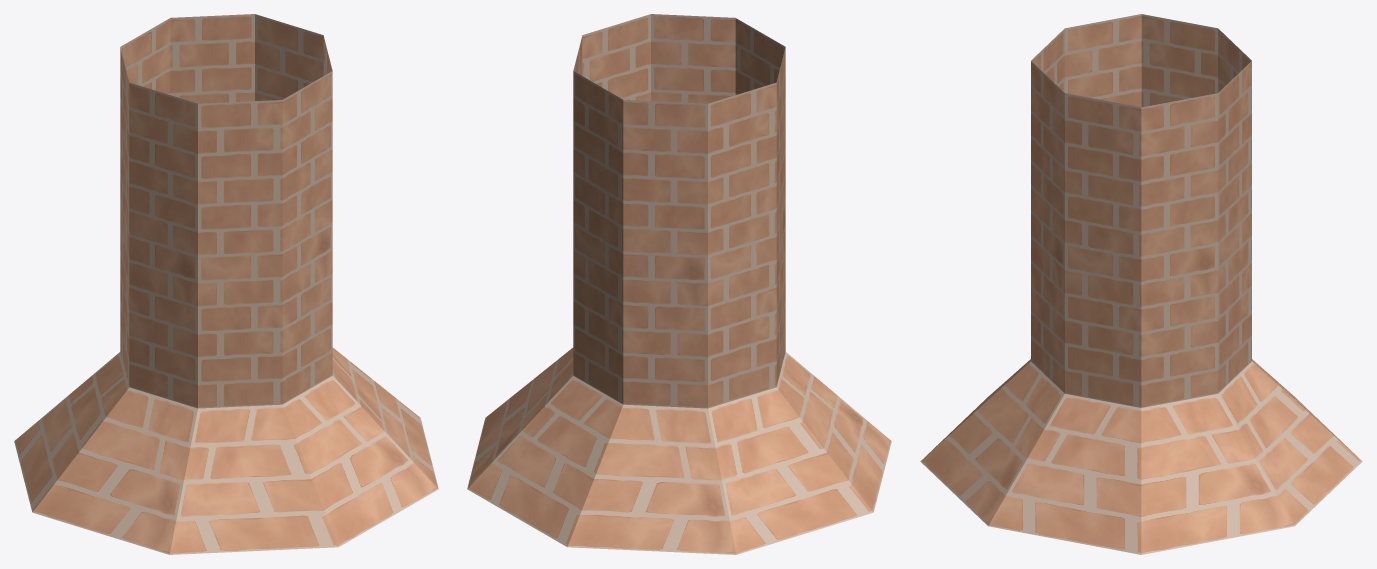
Rendered from Bot_Temp_Pillar.fbx.
3 views of the same model, side by side, from view 1: azimuth 30°, elevation 25°; view 2: azimuth 150°, elevation 25°; view 3: azimuth 270°, elevation 25° (orthographic).
Parts seen in each view (by area): view 1: Bot_Temp_Pillar; view 2: Bot_Temp_Pillar; view 3: Bot_Temp_Pillar.
Part boxes in pixels (x1,y1,x2,y2): Bot_Temp_Pillar: [14, 14, 438, 554]; Bot_Temp_Pillar: [467, 14, 891, 554]; Bot_Temp_Pillar: [920, 14, 1362, 554].
Bounding box in the file's own units: 100 × 100 × 100.
Materials: 1 (1 with a texture image).
